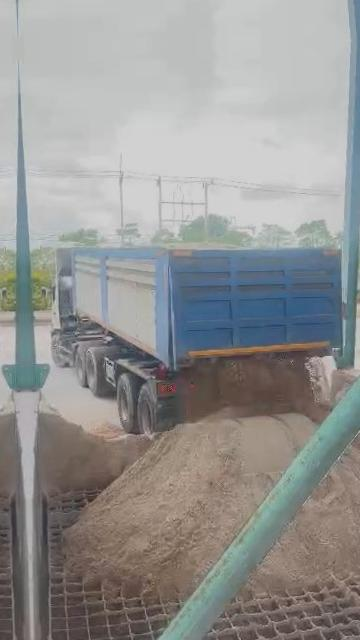sand: (67, 414, 312, 595), (250, 448, 360, 592), (38, 406, 149, 494), (179, 356, 314, 422), (308, 356, 335, 421), (332, 369, 360, 403), (163, 242, 246, 249), (355, 412, 360, 459)
